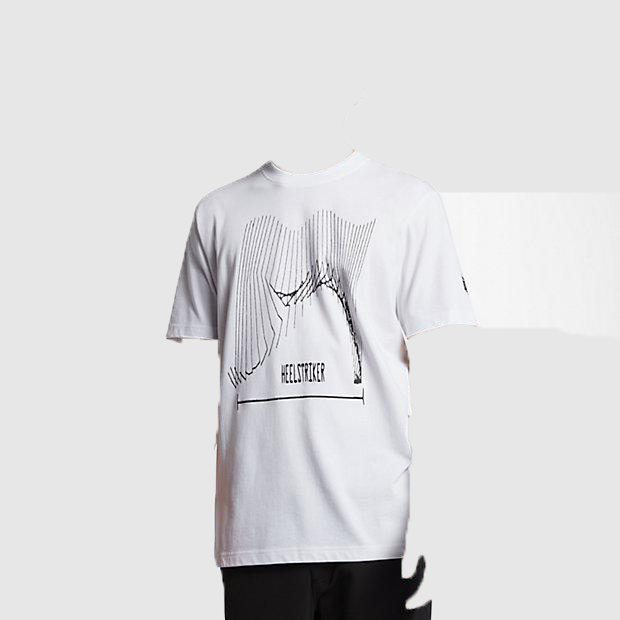teeshirt: (157, 150, 504, 564)
